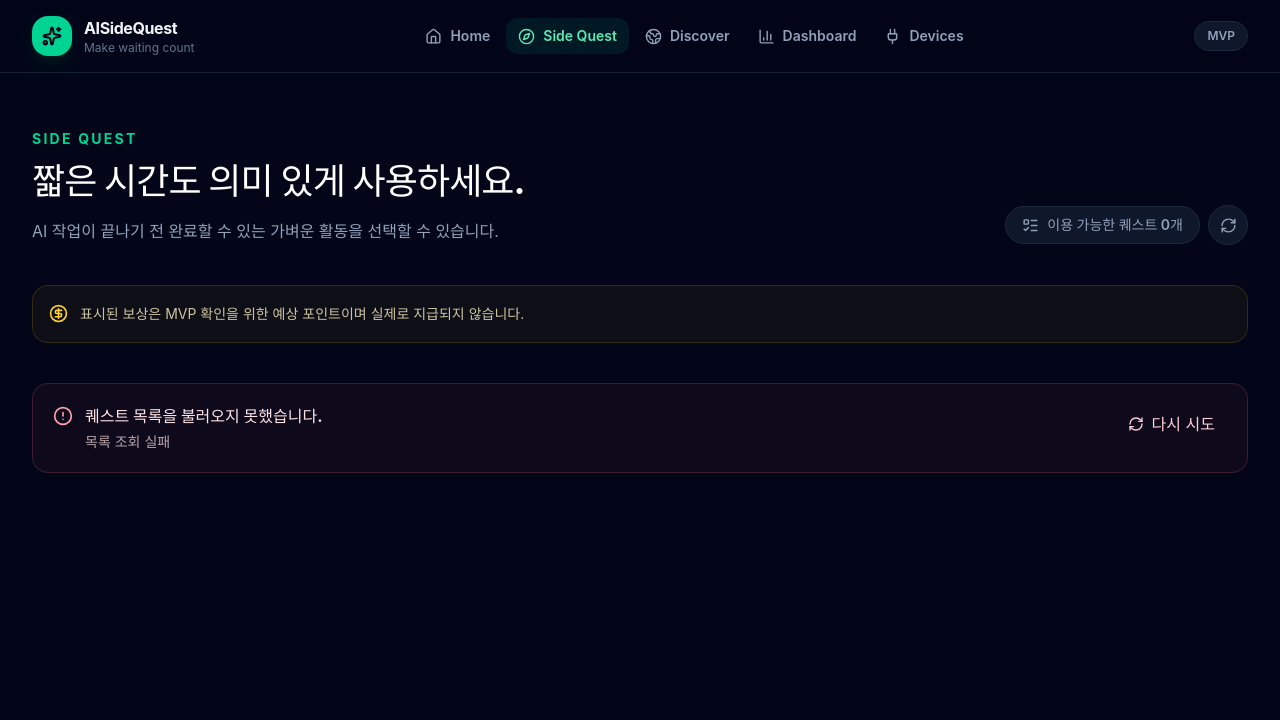
Test case: AISideQuest API session flow › shows quest loading failure and retries without a page reload
The width and height of the screenshot is (1280, 720).
expect the message shows "목록 조회 실패": met, box [85,433,170,450]
Click the button "다시 시도": [1171, 424] box [1116,404,1227,444]
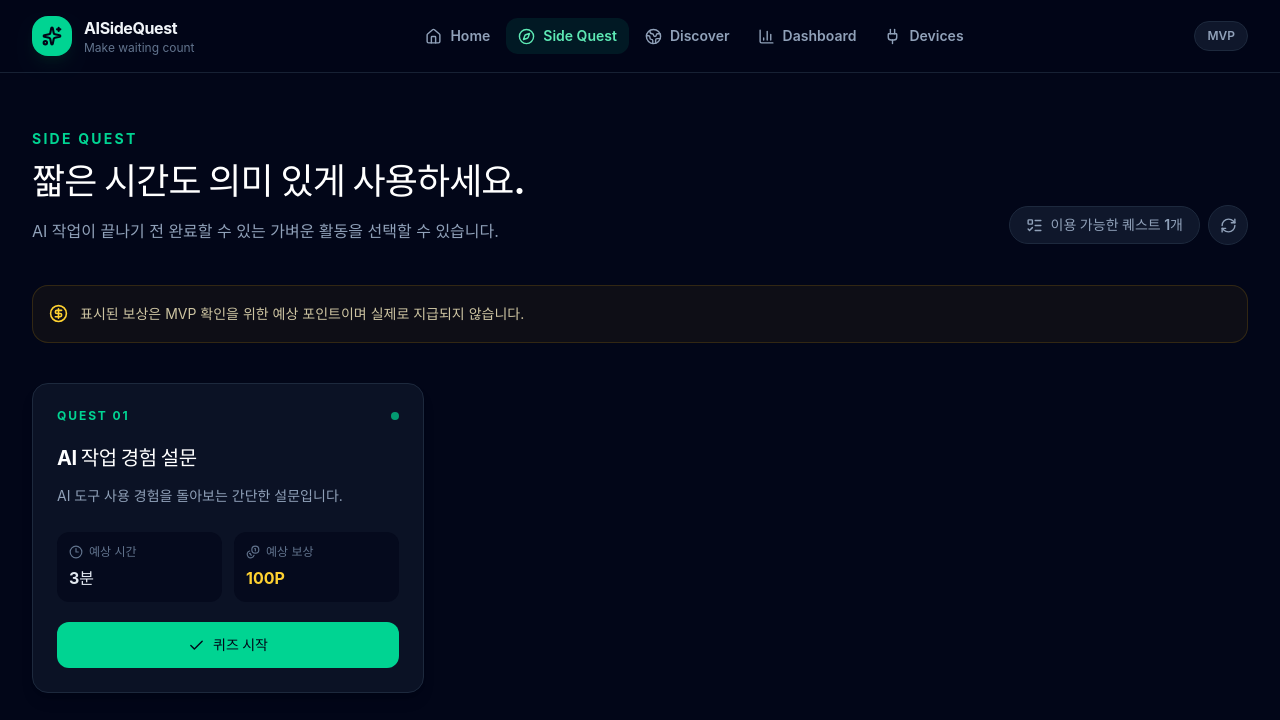
expect the message "퀘스트 목록을 불러오지 못했습니다. 목록 조회 실패 다시 시도" is gone: met
expect the heading "AI 작업 경험 설문" is shown: met, box [57,446,197,470]
